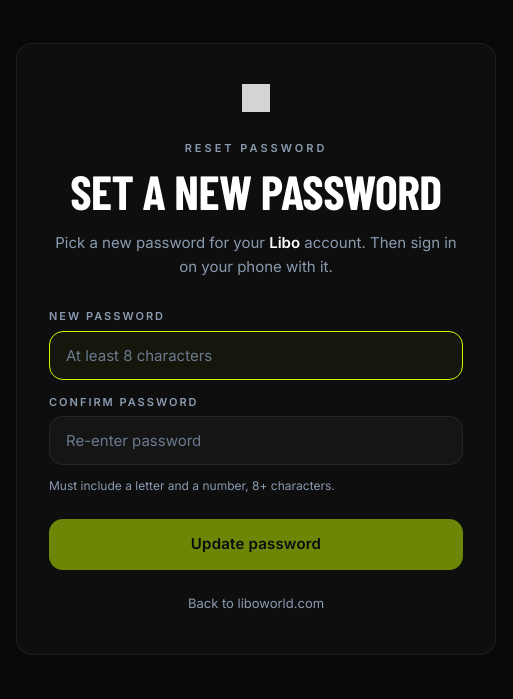
Test: AuthCallback › recovery › rejects mismatched passwords
Expected: the heading "Set a new password" is shown, [49, 169, 463, 215]
Type "longenough1" into the password field with placeholder "At least 8 characters" at [256, 355], box [49, 330, 463, 380]
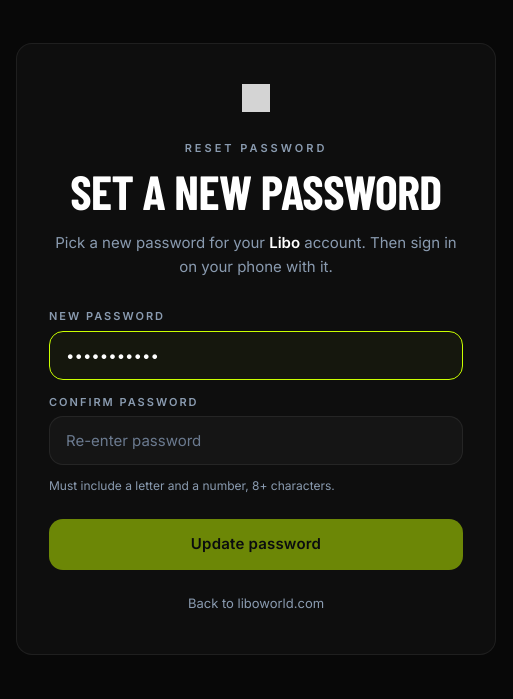
Type "different11" into the password field with placeholder "Re-enter password" at [256, 440], box [49, 416, 463, 465]
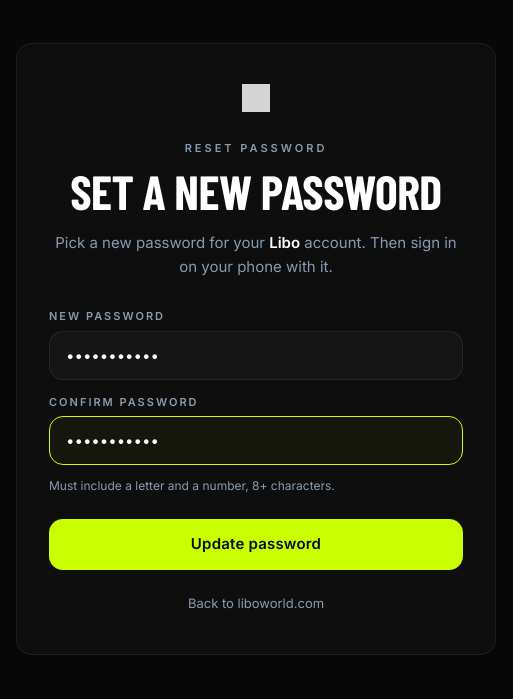
Click the button "Update password" at [256, 544], box [49, 519, 463, 570]
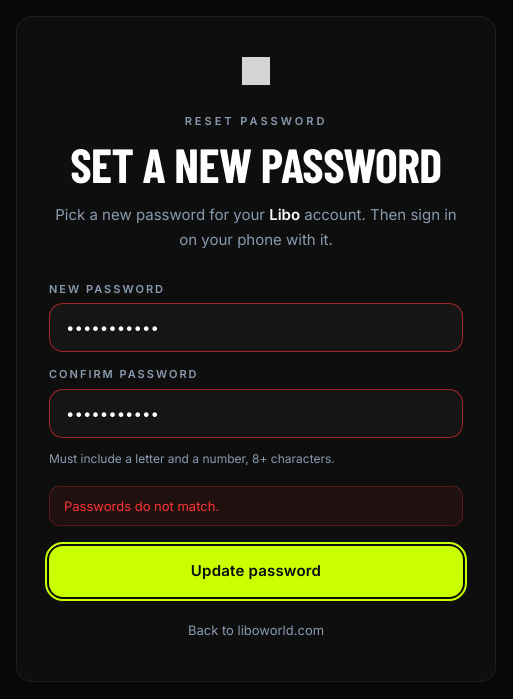
Expected: the message shows "Passwords do not match", [64, 498, 219, 514]
